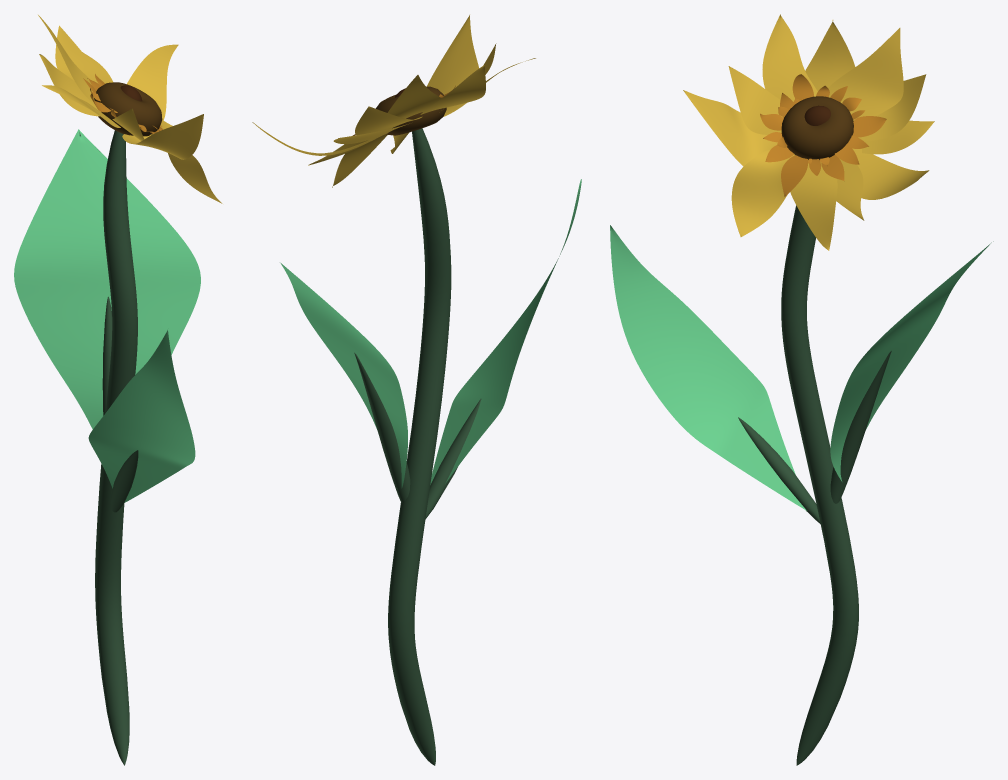
The model's file is plant013.glb.
3 views of the same model, side by side, from view 1: azimuth 30°, elevation 25°; view 2: azimuth 150°, elevation 25°; view 3: azimuth 270°, elevation 25° (orthographic). The views are drawn at different scales.
Visible parts, largest first — view 1: s.0164, s.0030, s.0166, p.0083, s.0114, s.0100, s.0110, s.0116, s.0108, s.0044, s.0031, s.0104 (+2 smaller); view 2: s.0030, s.0164, s.0166, s.0114, s.0031, s.0044, s.0104, s.0108, p.0083, s.0110, s.0120; view 3: s.0166, s.0030, s.0164, s.0104, p.0083, s.0116, s.0114, s.0120, s.0106, s.0031, s.0100, s.0108 (+6 smaller).
Part boxes in pixels (x1,y1,x2,y2): s.0164: [14, 129, 200, 429]; s.0030: [95, 130, 137, 765]; s.0166: [88, 330, 195, 502]; p.0083: [94, 82, 162, 136]; s.0114: [122, 114, 203, 159]; s.0100: [127, 44, 178, 120]; s.0110: [55, 25, 103, 83]; s.0116: [149, 134, 222, 203]; s.0108: [39, 54, 101, 116]; s.0044: [110, 450, 138, 512]; s.0031: [102, 296, 112, 415]; s.0104: [38, 15, 94, 104]; s.0030: [388, 128, 451, 765]; s.0164: [280, 262, 407, 488]; s.0166: [430, 179, 581, 484]; s.0114: [427, 15, 478, 116]; s.0031: [354, 352, 410, 503]; s.0044: [425, 398, 481, 519]; s.0104: [387, 75, 441, 118]; s.0108: [420, 65, 485, 114]; p.0083: [375, 86, 446, 135]; s.0110: [355, 106, 422, 135]; s.0120: [332, 134, 387, 187]; s.0166: [610, 225, 806, 510]; s.0030: [781, 205, 858, 765]; s.0164: [830, 241, 993, 481]; s.0104: [828, 28, 903, 120]; p.0083: [781, 96, 853, 159]; s.0116: [731, 150, 794, 236]; s.0114: [683, 90, 777, 166]; s.0120: [790, 160, 837, 250]; s.0106: [762, 14, 817, 101]; s.0031: [830, 350, 891, 503]; s.0100: [852, 148, 929, 199]; s.0108: [805, 20, 855, 91].
Size of the model in its own units: 0.065 by 0.216 by 0.1042.
